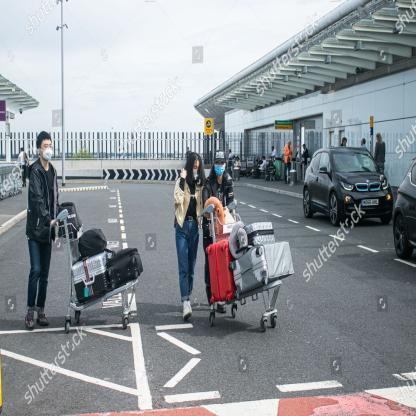airport-trolley: (48, 199, 142, 335), (199, 203, 291, 332)
